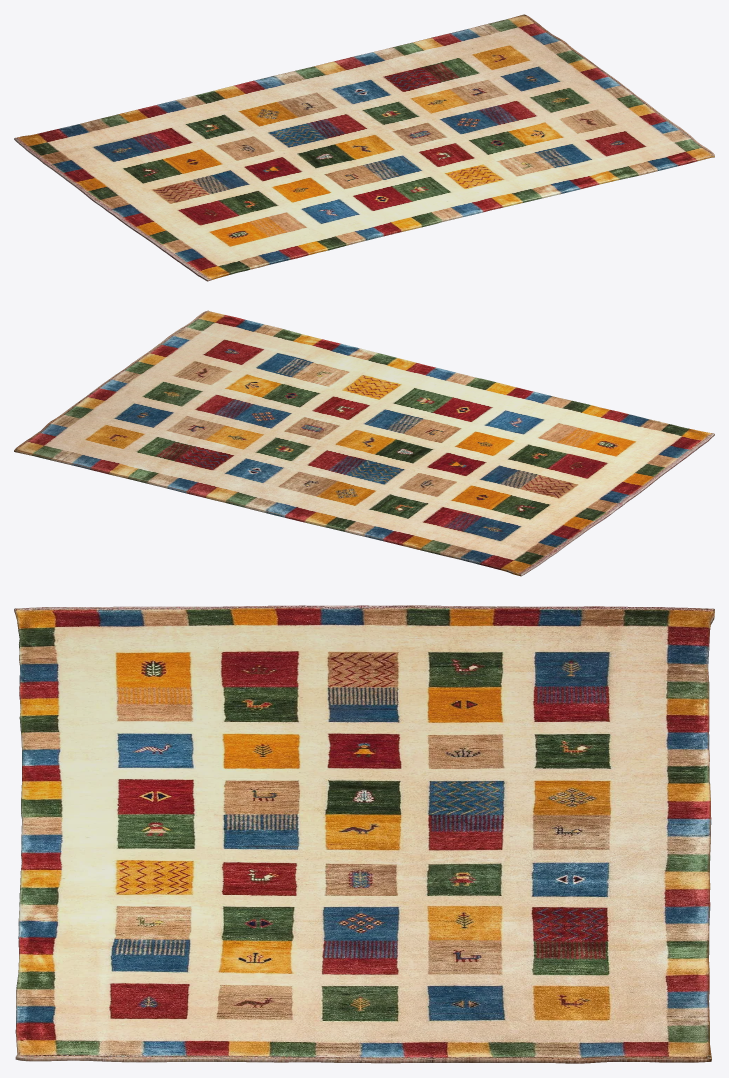
Rendered from rug_qashqai.glb.
3 renders of one model, top to bottom at view 1: azimuth 30°, elevation 25°; view 2: azimuth 150°, elevation 25°; view 3: azimuth 270°, elevation 25°, orthographic. The views are drawn at different scales.
Parts seen in each view (by area): view 1: Object_4; view 2: Object_4; view 3: Object_4.
Part boxes in pixels (x1,y1,x2,y2): Object_4: [14, 14, 714, 281]; Object_4: [14, 310, 714, 576]; Object_4: [14, 605, 714, 1063].
Bounding box in the file's own units: 0.9921 × 0.004 × 0.6451.
Materials: 1 (1 with a texture image).
